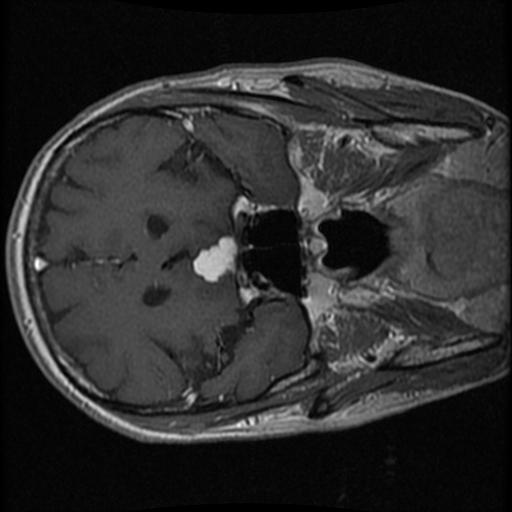meningioma: (191, 236, 237, 283)
